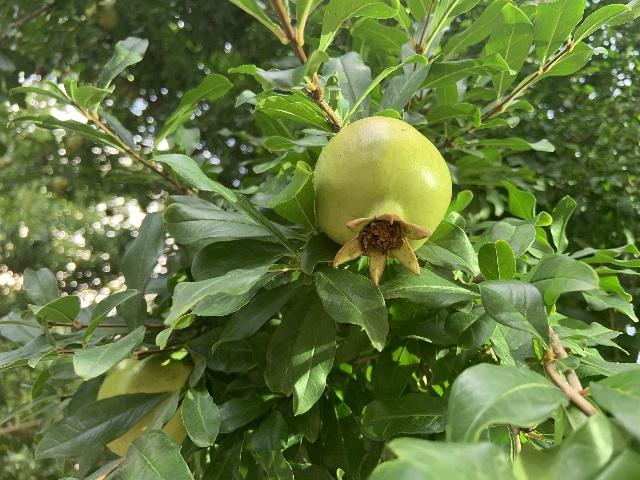mid-growth: (312, 114, 452, 287), (96, 357, 188, 456)
